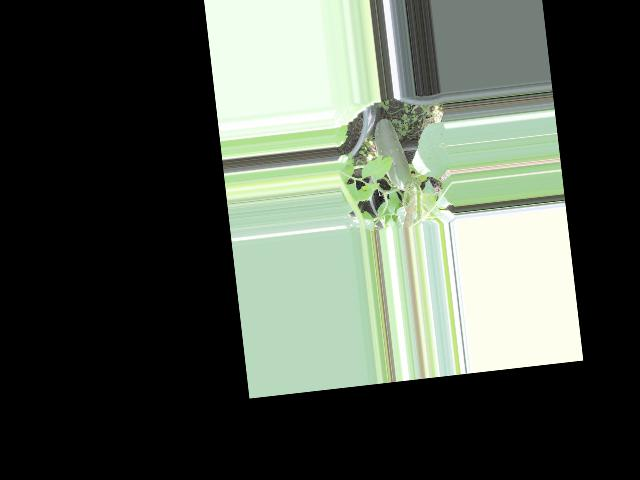cucumber: (372, 116, 413, 192)
